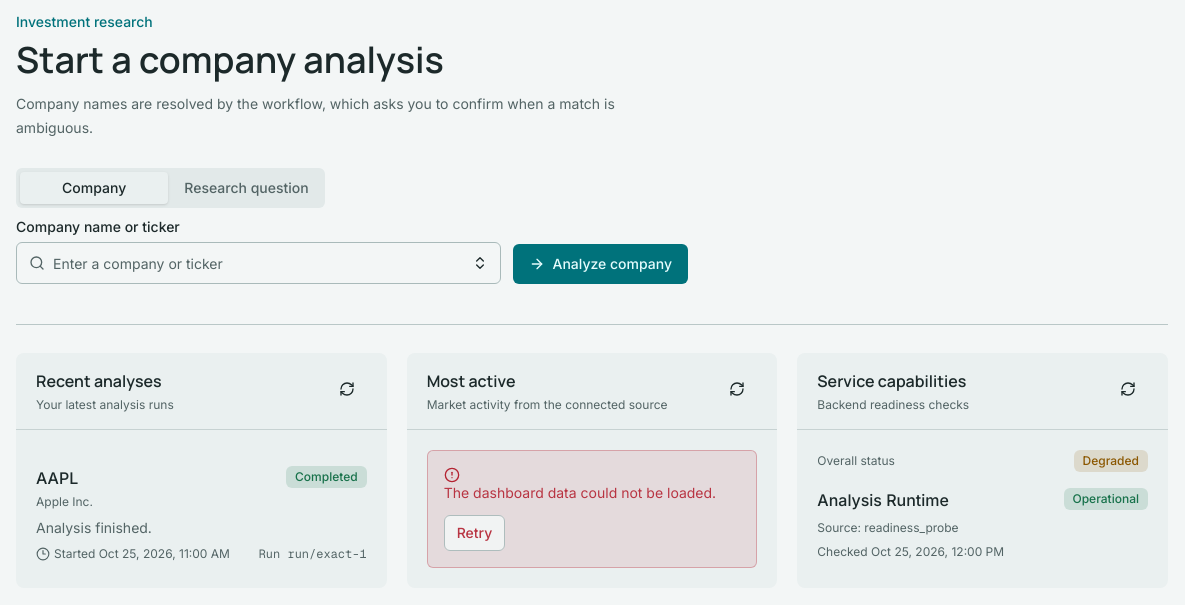
Test case: home dashboard › keeps market errors independent and retries only the market panel
The width and height of the screenshot is (1185, 605).
Expected: the element "Most active" is shown, left=407, top=353, right=777, bottom=588
Expected: the text "The dashboard data could not be loaded." is shown, left=444, top=483, right=716, bottom=503
Click the button "Retry" at {"x": 474, "y": 533}, box left=444, top=515, right=505, bottom=551
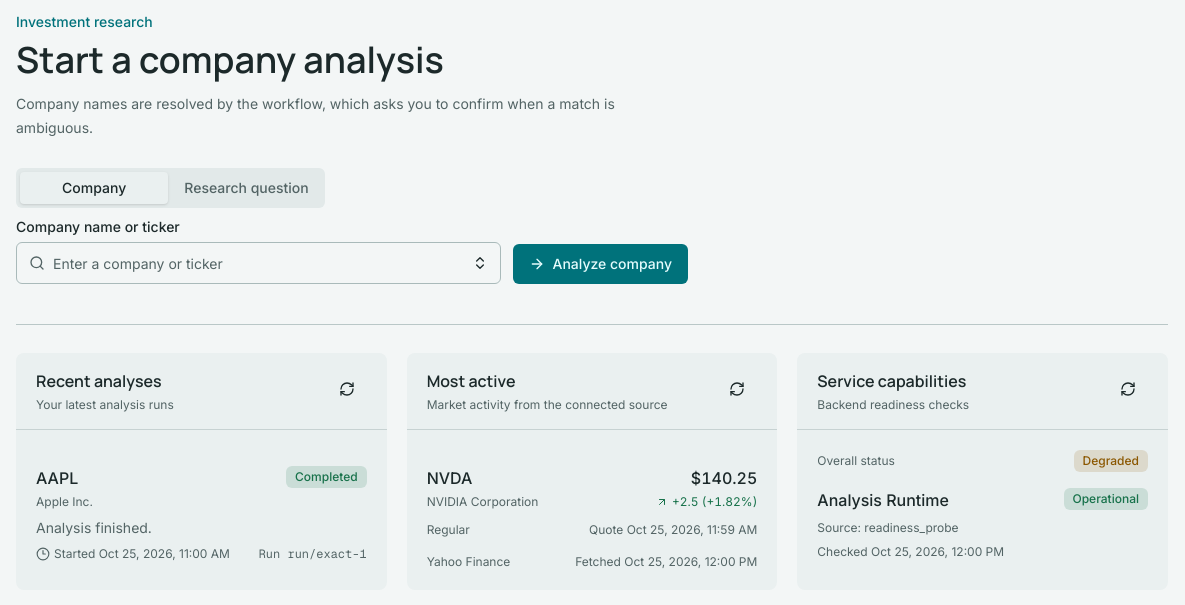
Now the text "NVIDIA Corporation" is shown, box left=427, top=494, right=538, bottom=510
